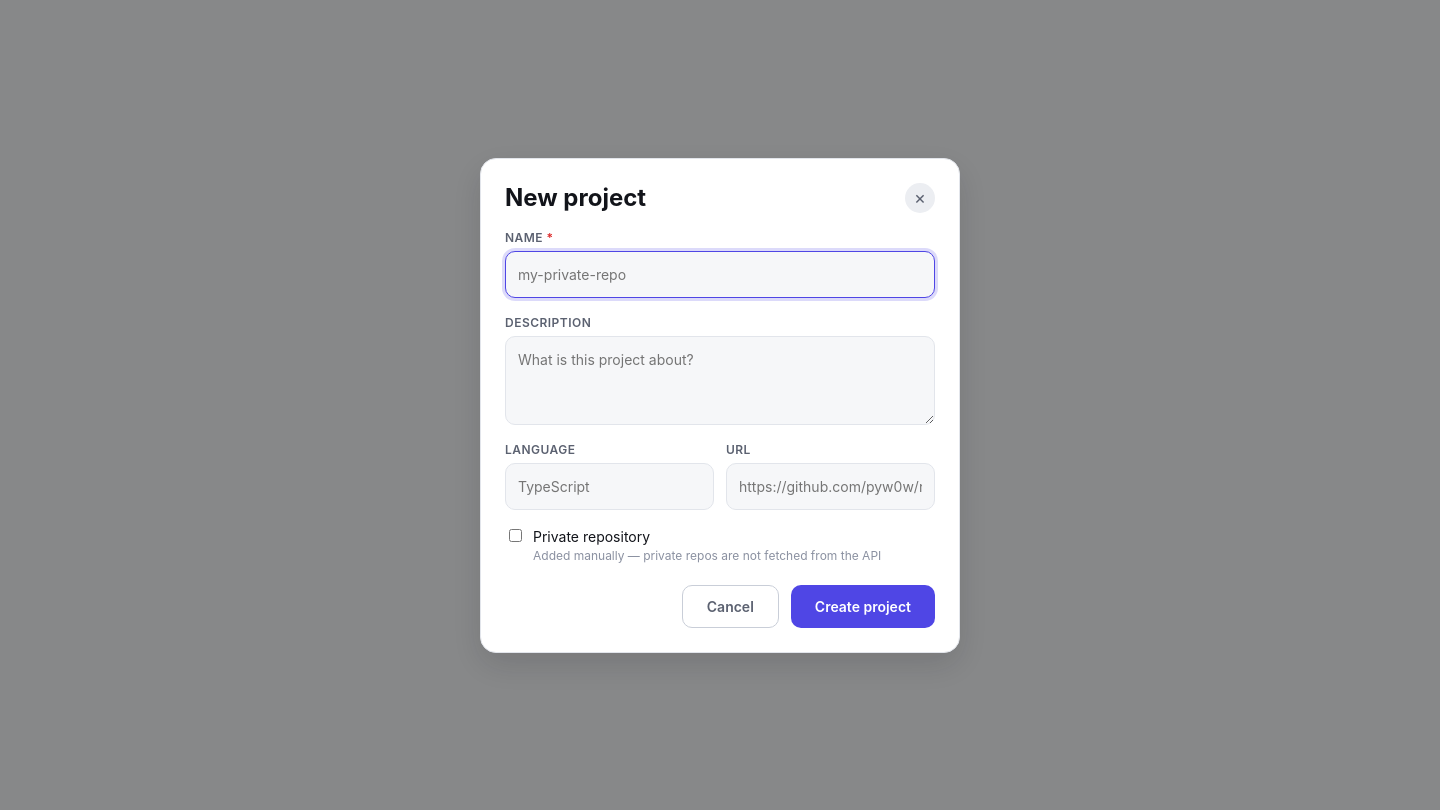
Scenario: ProjectForm › blocks submit without a name and shows an error
What coordinates should you click on to do the following:
click the button "Create project"
I would click on:
 (863, 606)
Its box is [791,584,935,628].
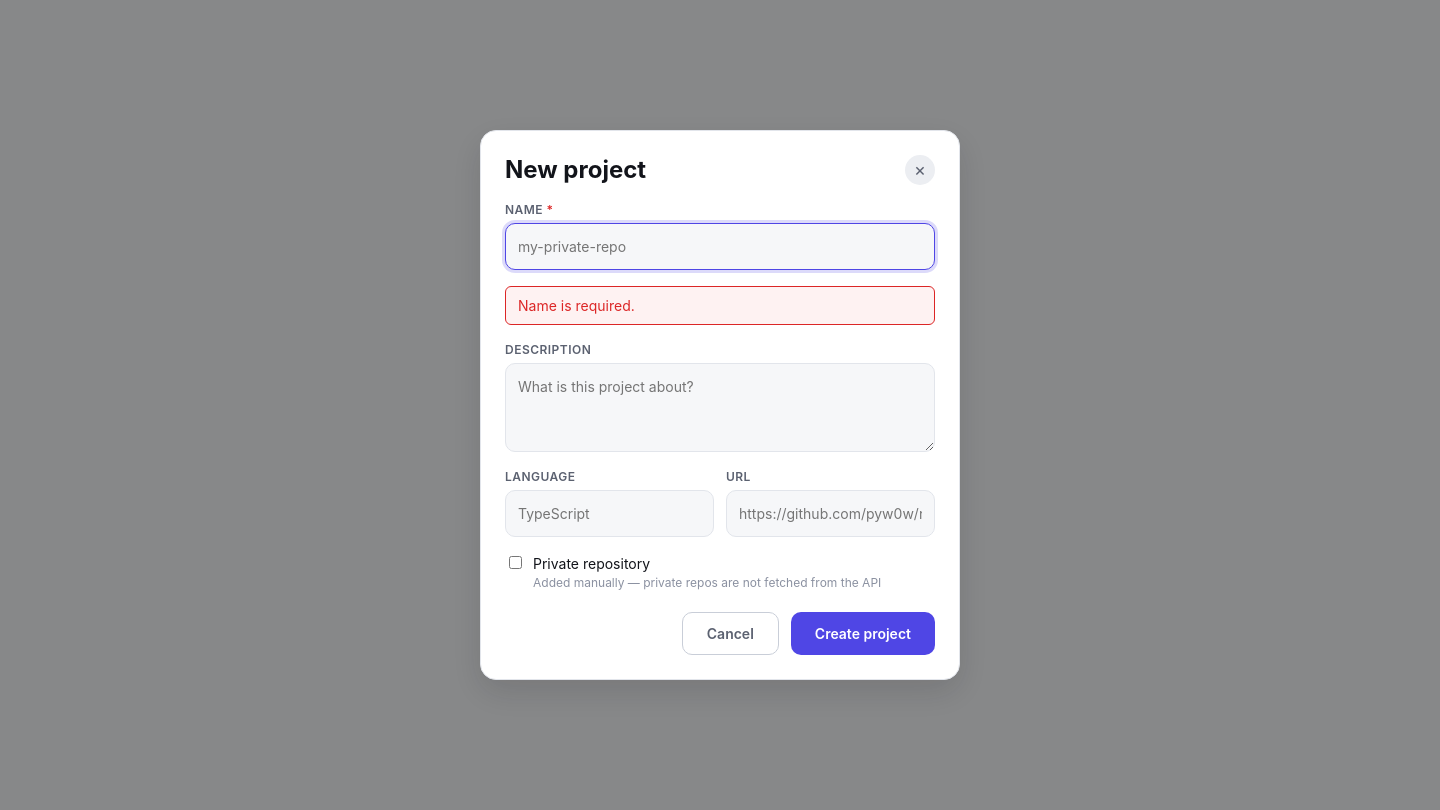
Expected: the message shows "Name is required", [518,297,635,314]
